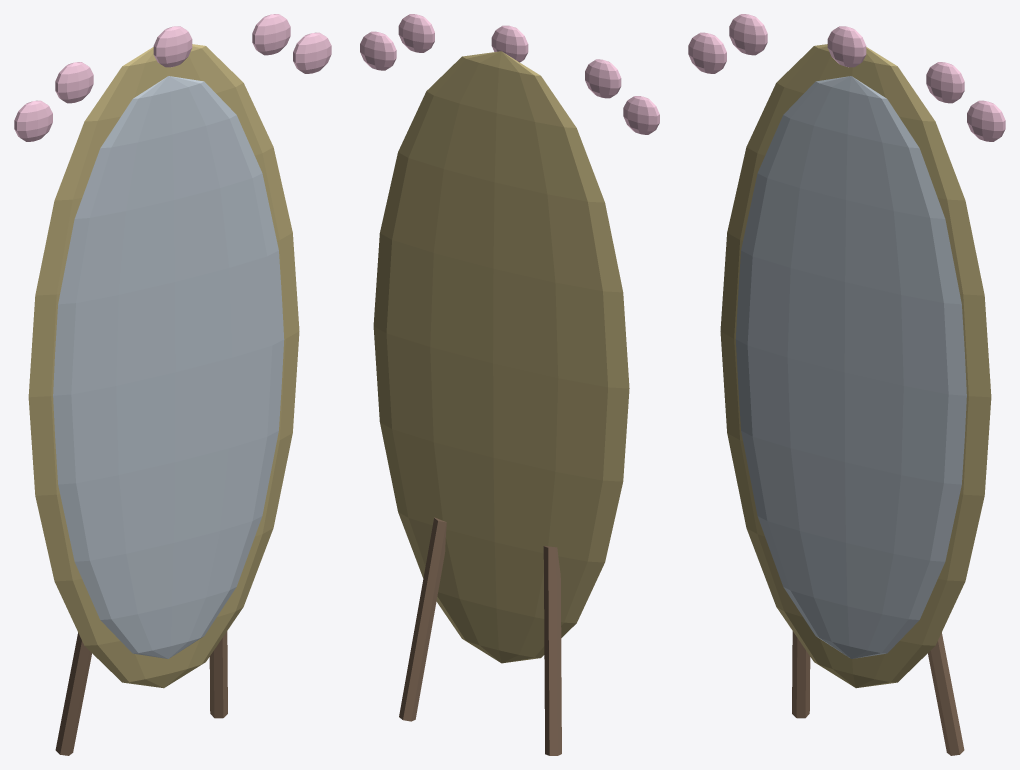
Rendered from FullMirror.fbx.
The picture shows the model from 3 angles, left to right: view 1: azimuth 30°, elevation 25°; view 2: azimuth 150°, elevation 25°; view 3: azimuth 330°, elevation 25°; orthographic projection. The views are drawn at different scales.
Visible parts, largest first — view 1: Prop_FullMirror; view 2: Prop_FullMirror; view 3: Prop_FullMirror.
Boxes of the visible parts, bbox=[...] form: Prop_FullMirror: bbox=[14, 14, 331, 755]; Prop_FullMirror: bbox=[360, 14, 659, 755]; Prop_FullMirror: bbox=[688, 14, 1005, 755].
Size of the model in its own units: 0.8127 by 1.8 by 0.1792.
